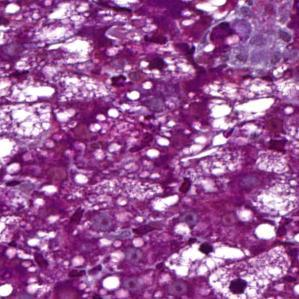ballooning: (166, 228, 292, 296)
